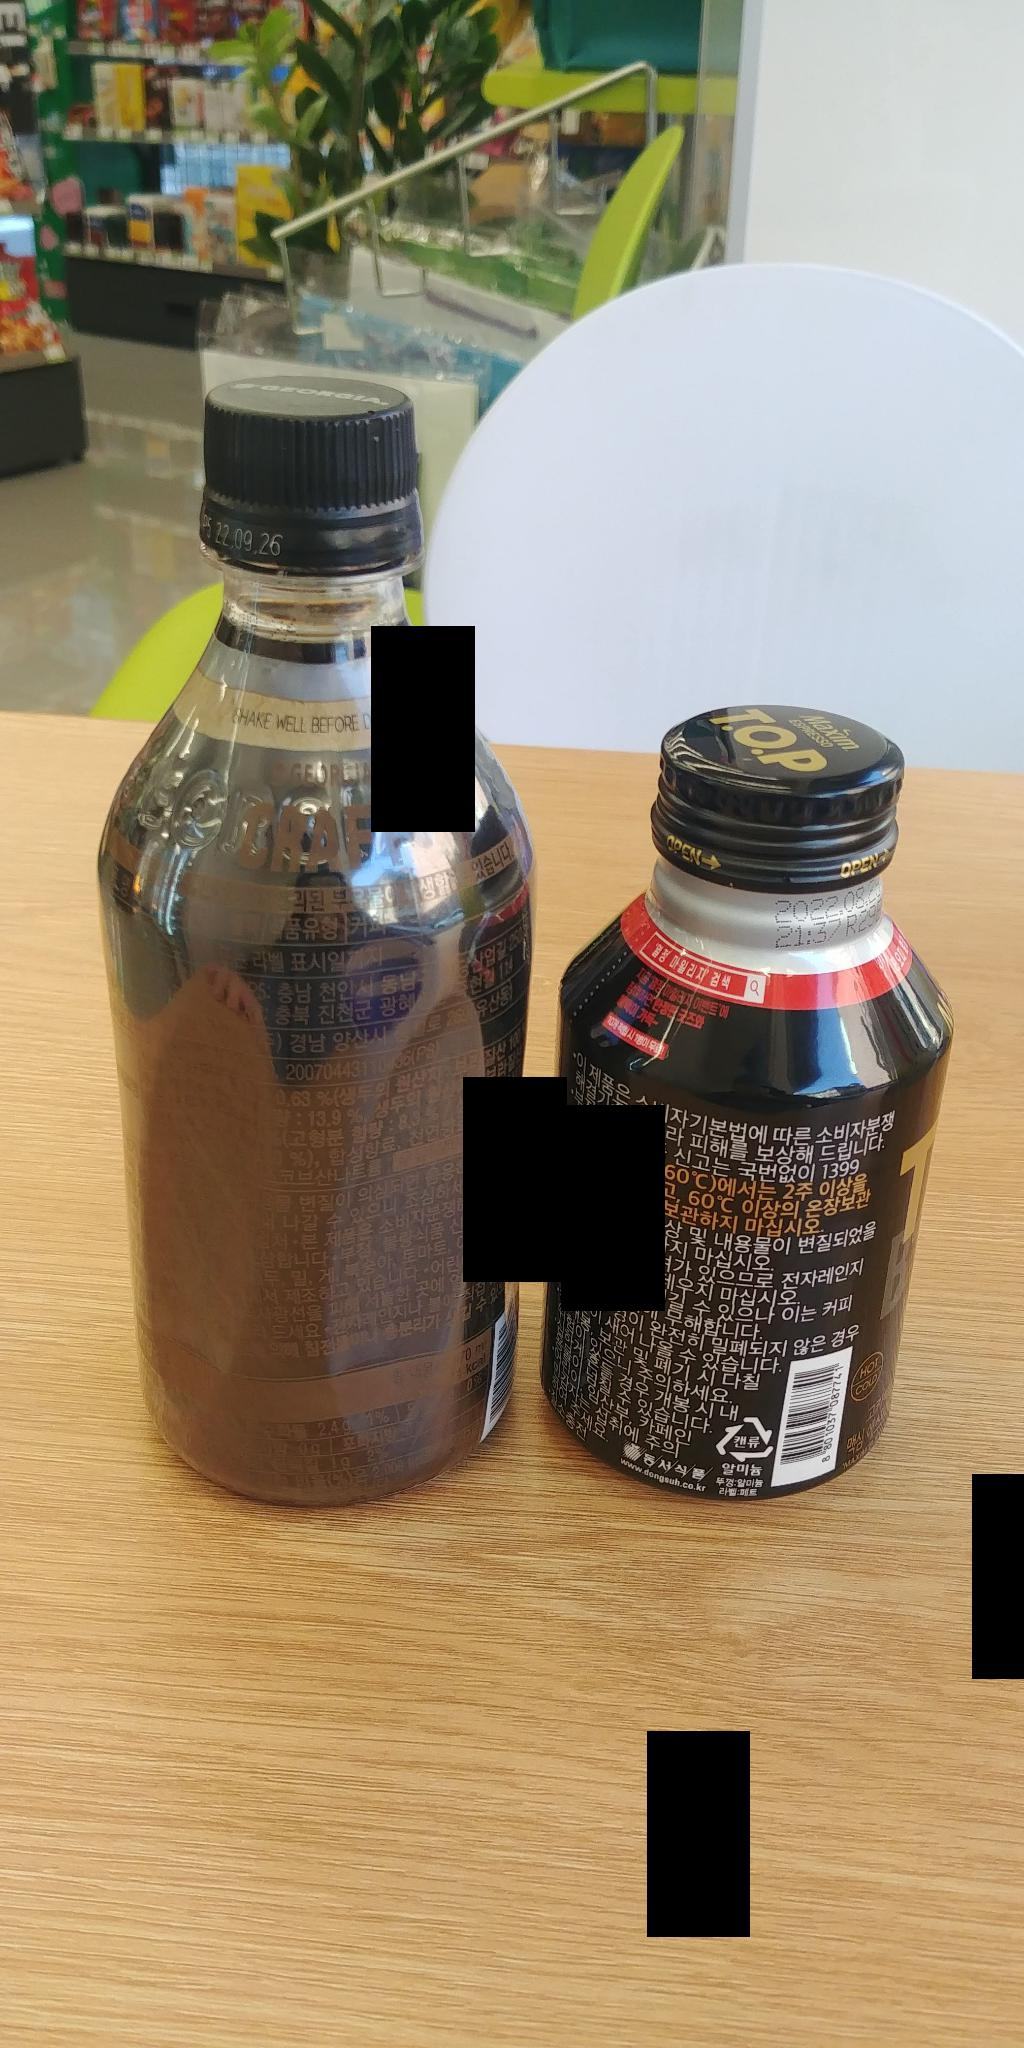TOP_black: (543, 654, 936, 1506)
georgiacraft_black: (80, 350, 538, 1527)
